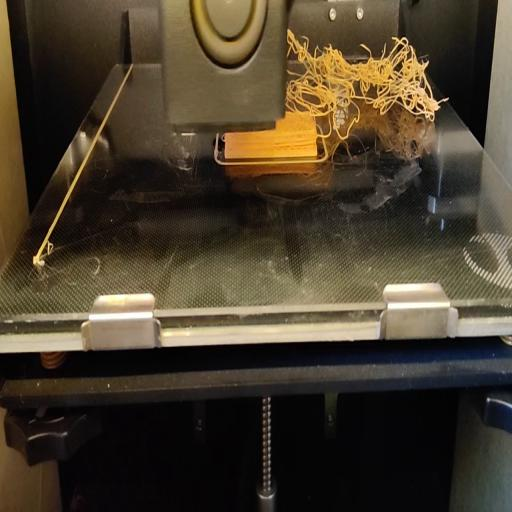spaghetti: (284, 26, 450, 140)
